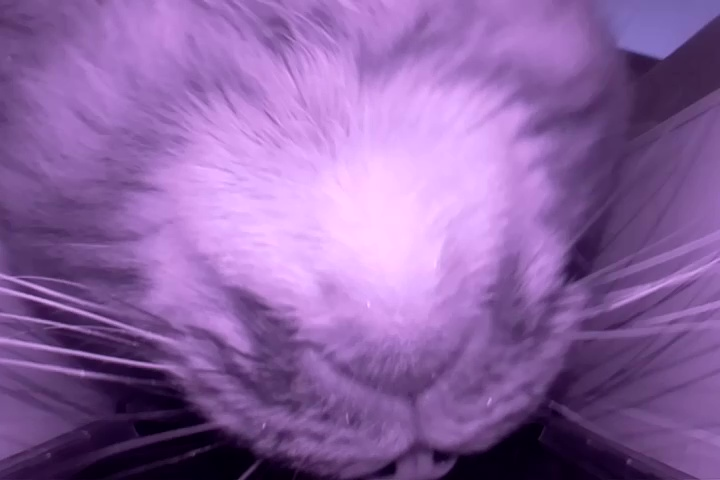Snout: (260, 267, 571, 478)
